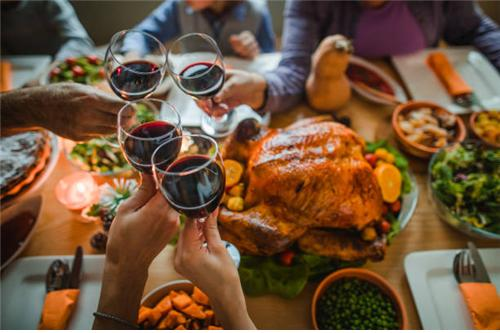alcohol: (151, 135, 240, 273), (116, 98, 184, 198), (167, 31, 229, 101), (106, 28, 167, 95)
